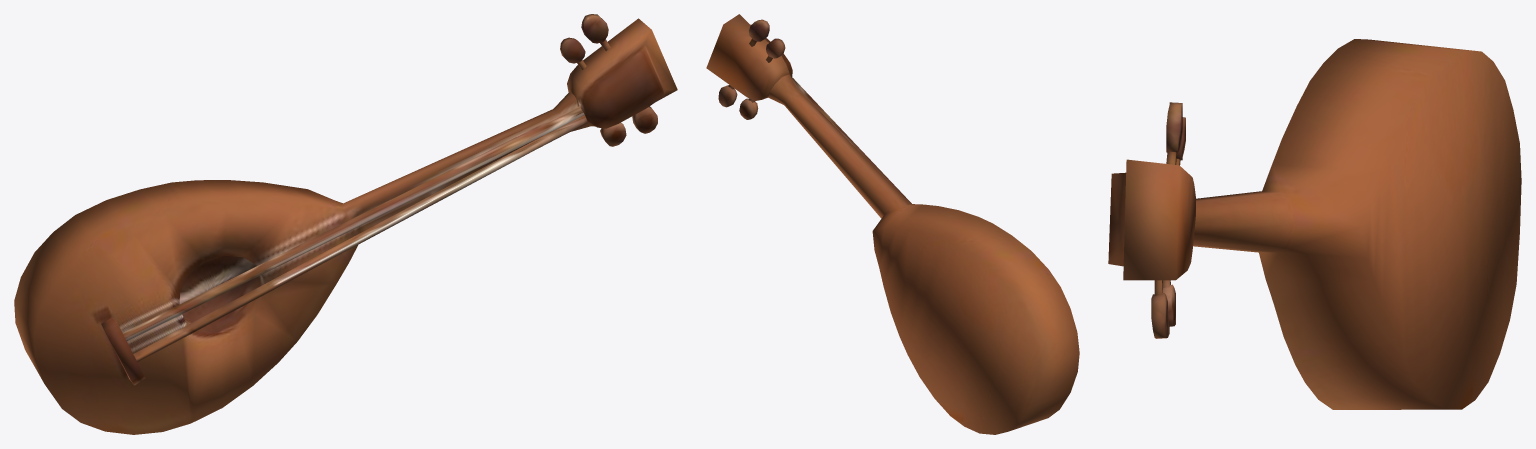
File: peace-lute.glb
3 renders of one model, left to right at view 1: azimuth 30°, elevation 25°; view 2: azimuth 150°, elevation 25°; view 3: azimuth 270°, elevation 25°, orthographic. The views are drawn at different scales.
Visible parts, largest first — view 1: Peacekeeper_Lute; view 2: Peacekeeper_Lute; view 3: Peacekeeper_Lute.
Boxes of the visible parts, x1,y1,x2,y2 form: Peacekeeper_Lute: (14, 14, 677, 434); Peacekeeper_Lute: (706, 14, 1079, 434); Peacekeeper_Lute: (1108, 39, 1521, 409).
Size of the model in its own units: 1.03 by 0.6562 by 0.4272.
Materials: 1 (1 with a texture image).
